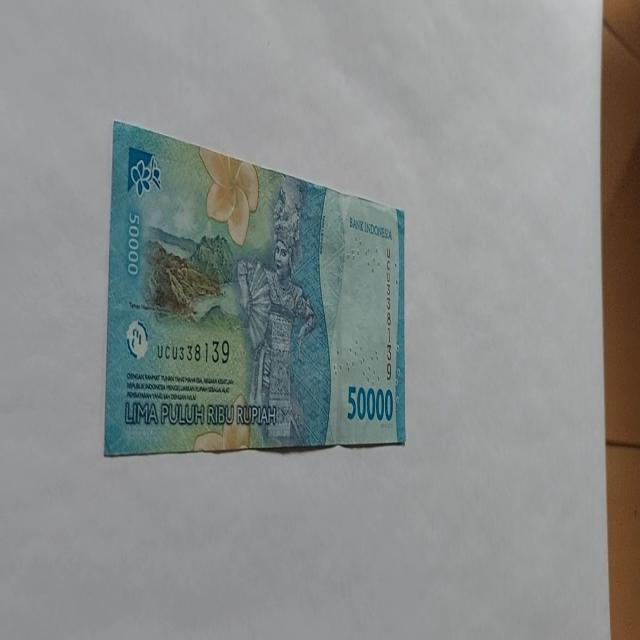lima puluh ribu rupiah: (103, 118, 407, 458)
